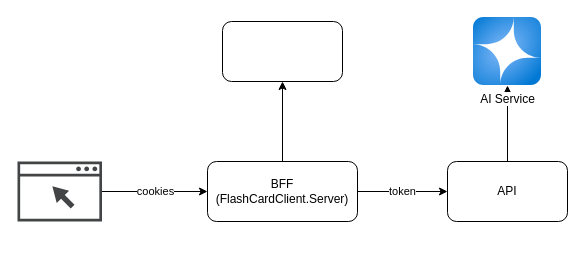
This 585x259 diagram has some shape labels left out. Here are the shapes that lost their labels. From the top down, the centre of each, then its label:
At point 282,51: "Auth".
At point 59,191: "Browser".
